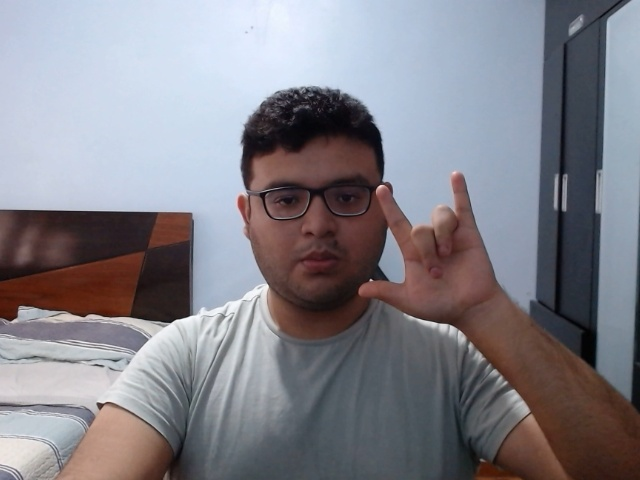I love you: (356, 170, 507, 334)
